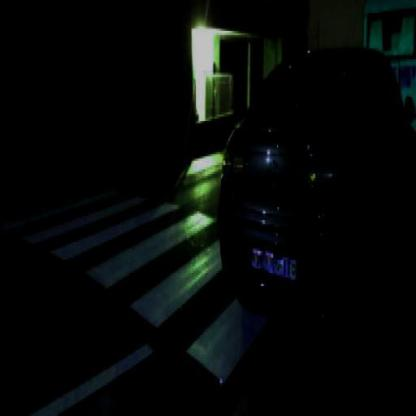crosswalk: (47, 184, 219, 304)
